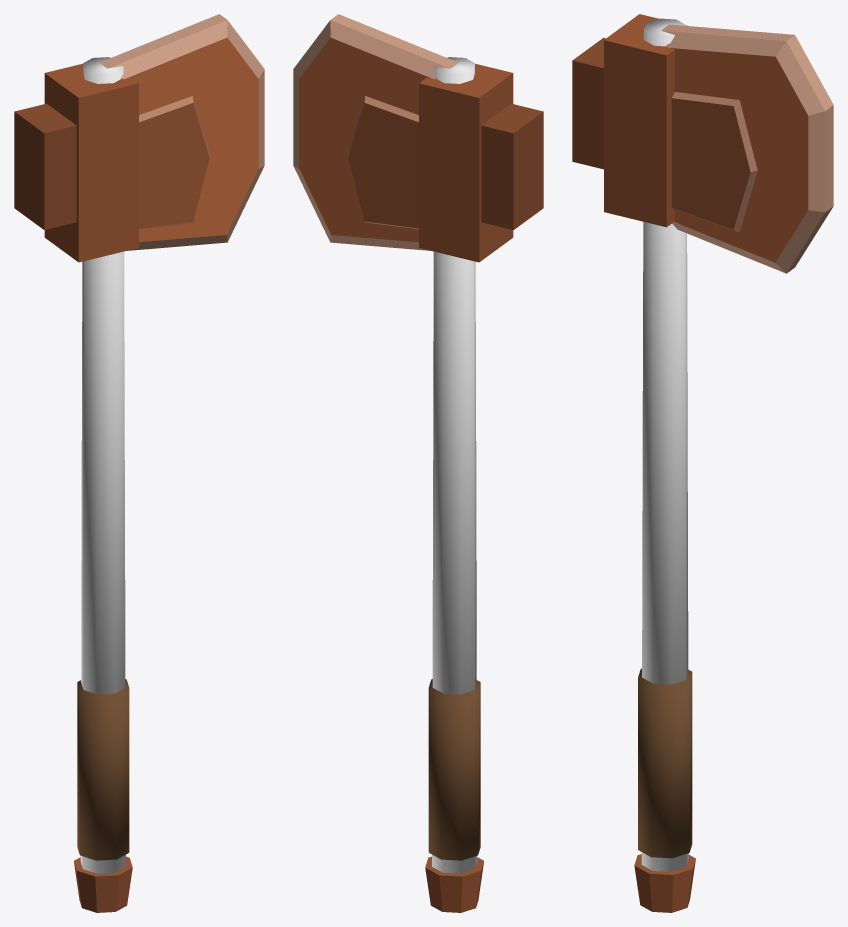
File: copper_axe.glb
The picture shows the model from 3 angles, left to right: view 1: azimuth 30°, elevation 25°; view 2: azimuth 150°, elevation 25°; view 3: azimuth 330°, elevation 25°; orthographic projection. The views are drawn at different scales.
Visible parts, largest first — view 1: copper_axe_v0; view 2: copper_axe_v0; view 3: copper_axe_v0.
Boxes of the visible parts, x1,y1,x2,y2 form: copper_axe_v0: (14, 14, 264, 912); copper_axe_v0: (293, 14, 543, 912); copper_axe_v0: (572, 14, 833, 912).
Size of the model in its own units: 0.25 by 0.885 by 0.064.
